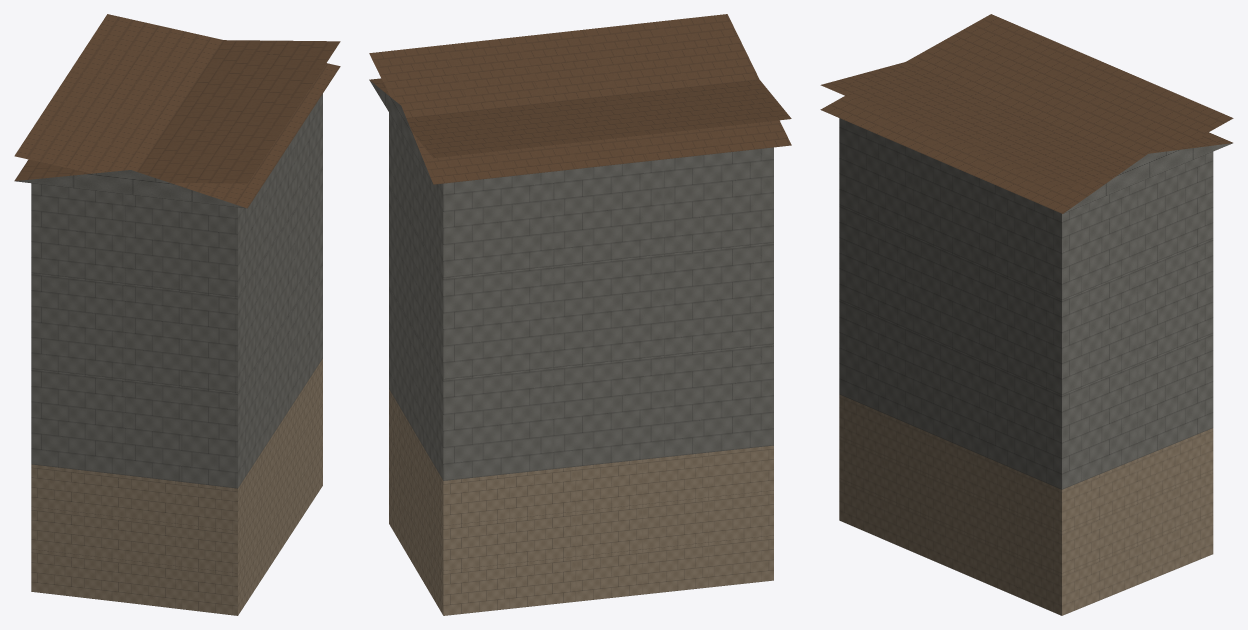
The model's file is bld_c39_46_198.gltf.
3 renders of one model, left to right at view 1: azimuth 30°, elevation 25°; view 2: azimuth 150°, elevation 25°; view 3: azimuth 270°, elevation 25°, orthographic. The views are drawn at different scales.
Parts seen in each view (by area): view 1: bld_c39_46_198; view 2: bld_c39_46_198; view 3: bld_c39_46_198.
Boxes of the visible parts, <box> form: bld_c39_46_198: <box>14,14,340,615</box>; bld_c39_46_198: <box>369,14,791,615</box>; bld_c39_46_198: <box>820,14,1233,615</box>.
Size of the model in its own units: 15.2 by 17.6 by 15.15.
4 materials, 4 textured.
